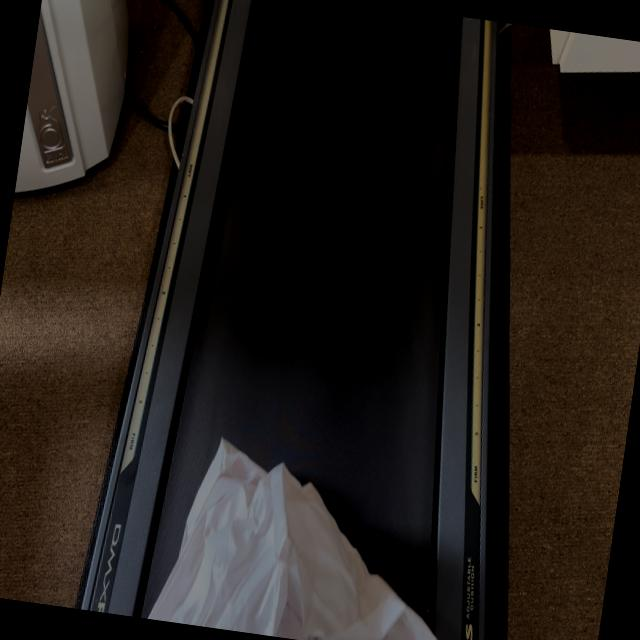Recycle: (145, 428, 471, 640)
